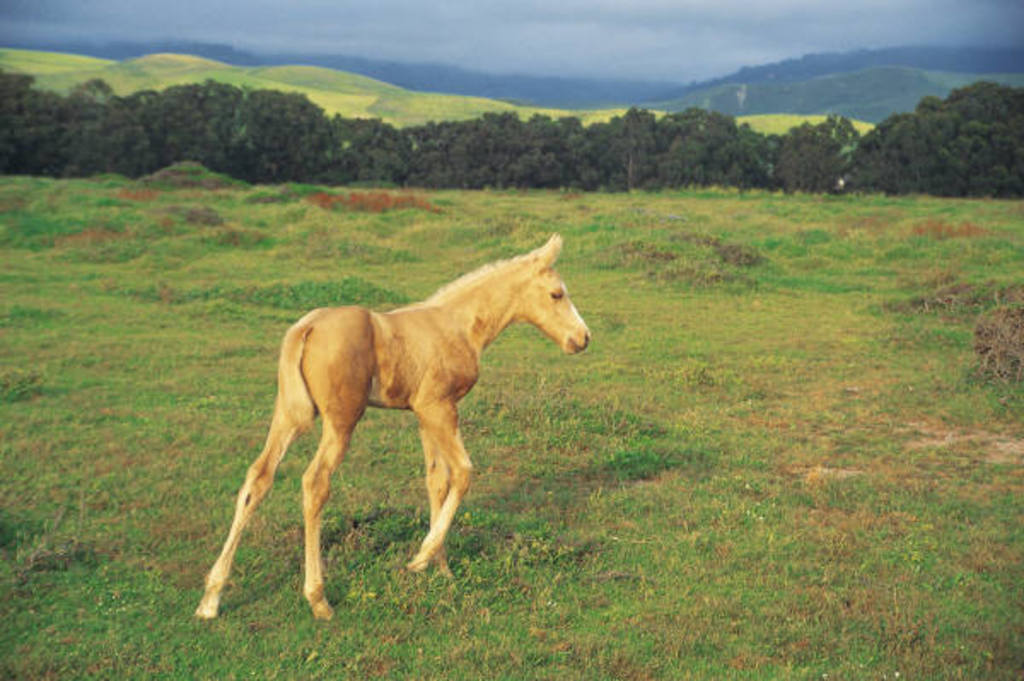horse: (192, 230, 593, 621)
